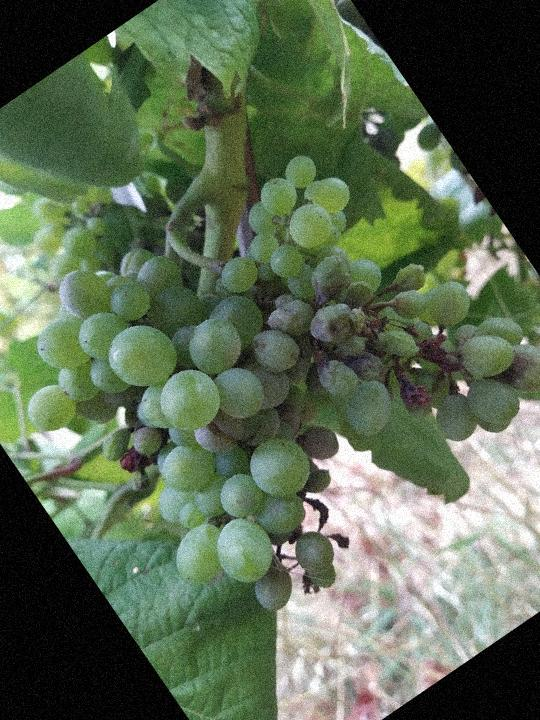grape: (0, 70, 540, 679)
